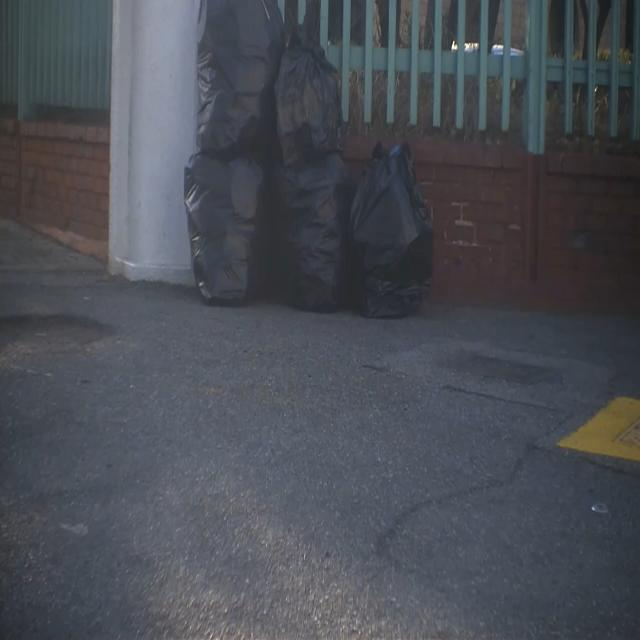Pothole: (0, 308, 121, 364)
